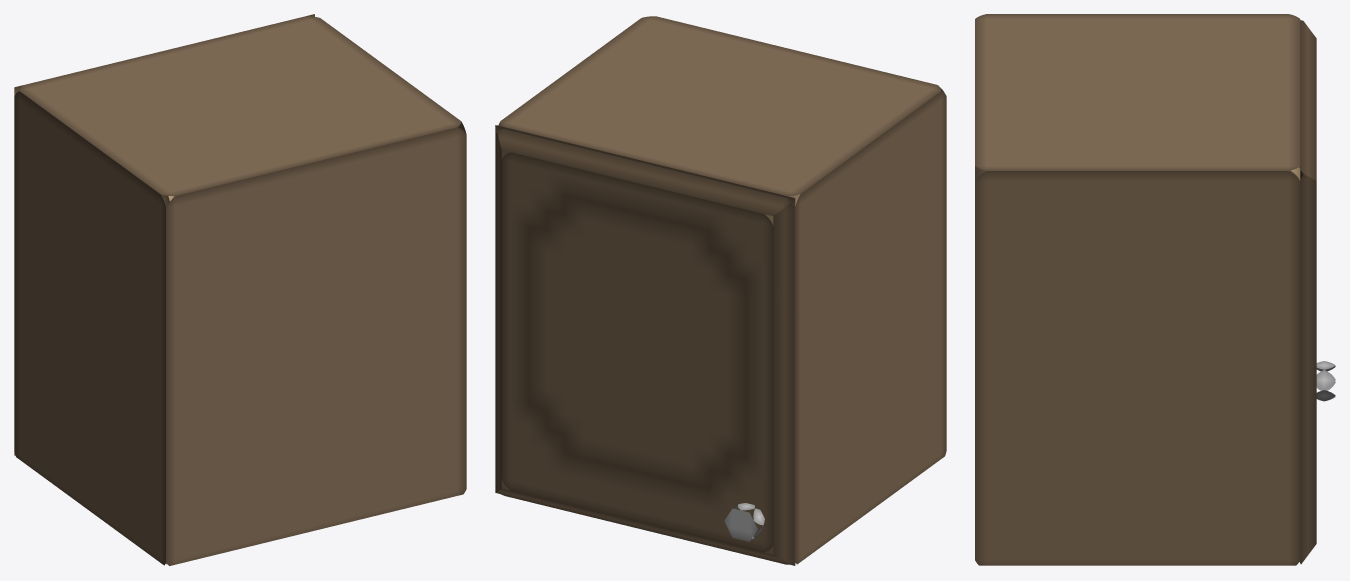
The model's file is Cabinet.fbx.
3 renders of one model, left to right at view 1: azimuth 30°, elevation 25°; view 2: azimuth 150°, elevation 25°; view 3: azimuth 270°, elevation 25°, orthographic. The views are drawn at different scales.
Parts seen in each view (by area): view 1: Cabinet_Body; view 2: Door_Body, Cabinet_Body, Handle; view 3: Cabinet_Body, Door_Body, Handle.
Part boxes in pixels (x1=…): Cabinet_Body: x1=14, y1=14, x2=466, y2=565; Door_Body: x1=496, y1=129, x2=794, y2=565; Cabinet_Body: x1=495, y1=16, x2=946, y2=565; Handle: x1=724, y1=503, x2=764, y2=541; Cabinet_Body: x1=975, y1=14, x2=1300, y2=565; Door_Body: x1=1299, y1=20, x2=1316, y2=564; Handle: x1=1316, y1=361, x2=1335, y2=401.
Bounding box in the file's own units: 1600 × 1881 × 1554.
Materials: 1 (1 with a texture image).
